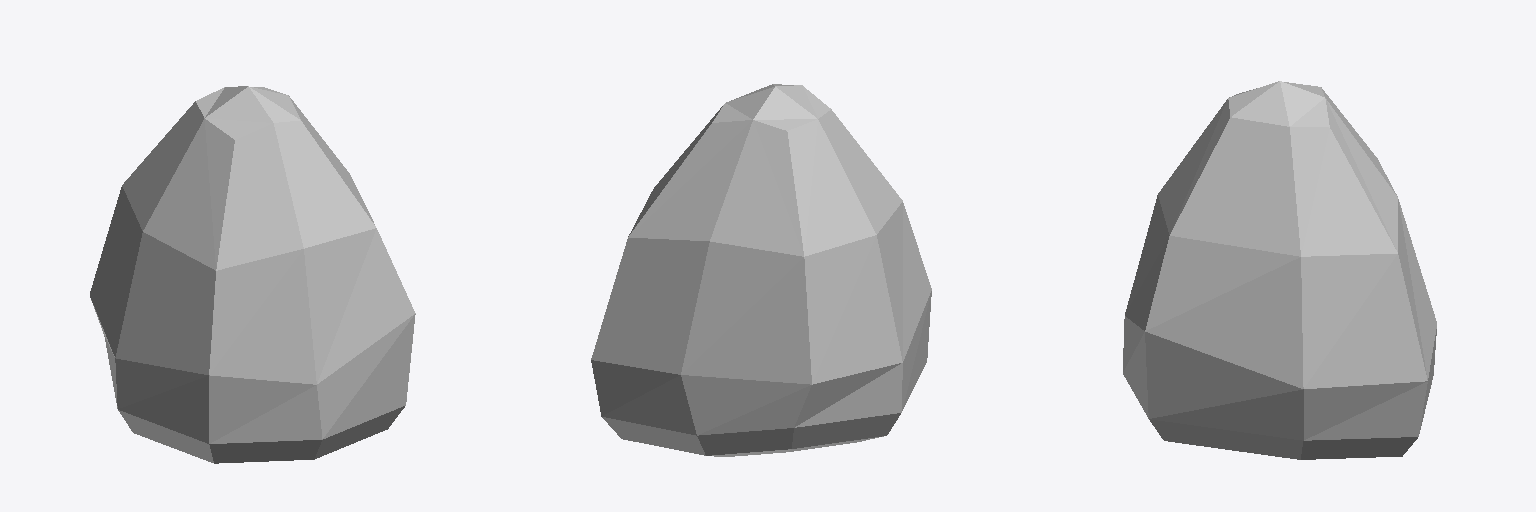
Rendered from tallshrub.obj.
3 renders of one model, left to right at view 1: azimuth 30°, elevation 25°; view 2: azimuth 150°, elevation 25°; view 3: azimuth 270°, elevation 25°, orthographic.
Parts seen in each view (by area): view 1: Bushes03; view 2: Bushes03; view 3: Bushes03.
Part boxes in pixels (x1,y1,x2,y2): Bushes03: (90, 86, 415, 463); Bushes03: (591, 84, 931, 456); Bushes03: (1123, 81, 1436, 459).
Size of the model in its own units: 1.45 by 1.72 by 1.43.